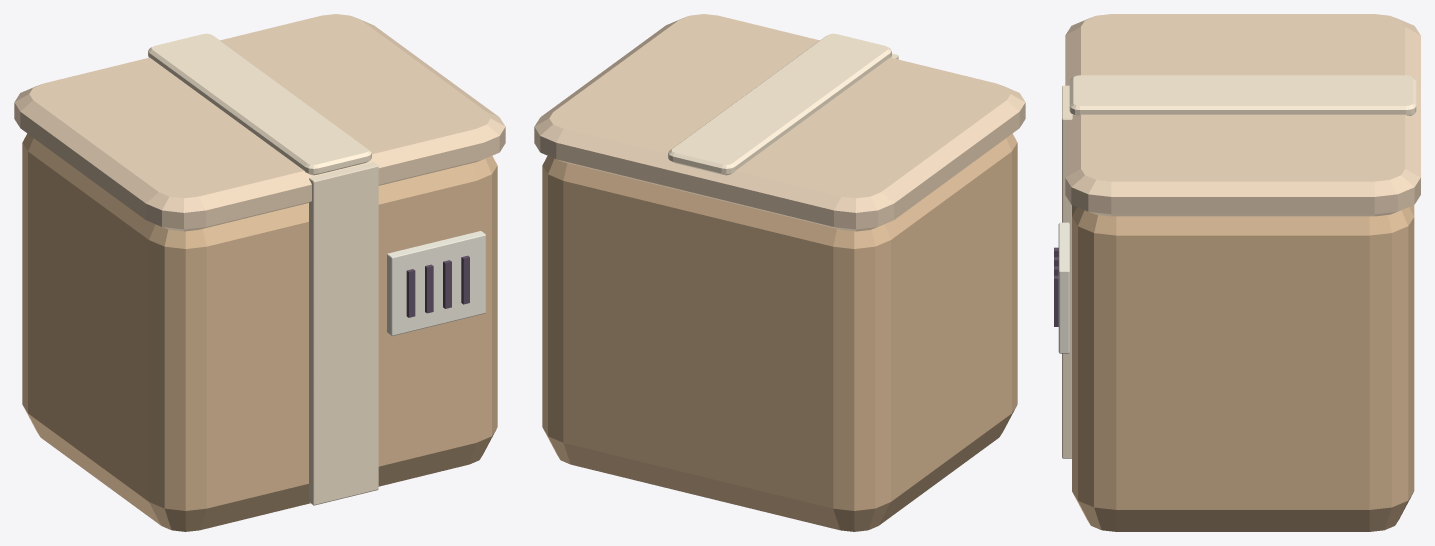
File: package_large.glb
3 renders of one model, left to right at view 1: azimuth 30°, elevation 25°; view 2: azimuth 150°, elevation 25°; view 3: azimuth 270°, elevation 25°, orthographic. The views are drawn at different scales.
Visible parts, largest first — view 1: carton, lid, model, ribbon, label; view 2: carton, lid, ribbon; view 3: carton, lid, ribbon, model, label.
Part boxes in pixels (<box>): carton: <box>22,133,497,531</box>; lid: <box>14,14,505,231</box>; model: <box>309,162,469,505</box>; ribbon: <box>148,33,371,175</box>; label: <box>387,231,485,335</box>; carton: <box>542,133,1017,531</box>; lid: <box>534,14,1025,231</box>; ribbon: <box>668,33,891,175</box>; carton: <box>1072,205,1414,531</box>; lid: <box>1065,14,1420,216</box>; ribbon: <box>1069,75,1416,115</box>; model: <box>1054,85,1072,458</box>; label: <box>1058,222,1069,353</box>.
Bounding box in the file's own units: 0.7 × 0.65 × 0.6.
